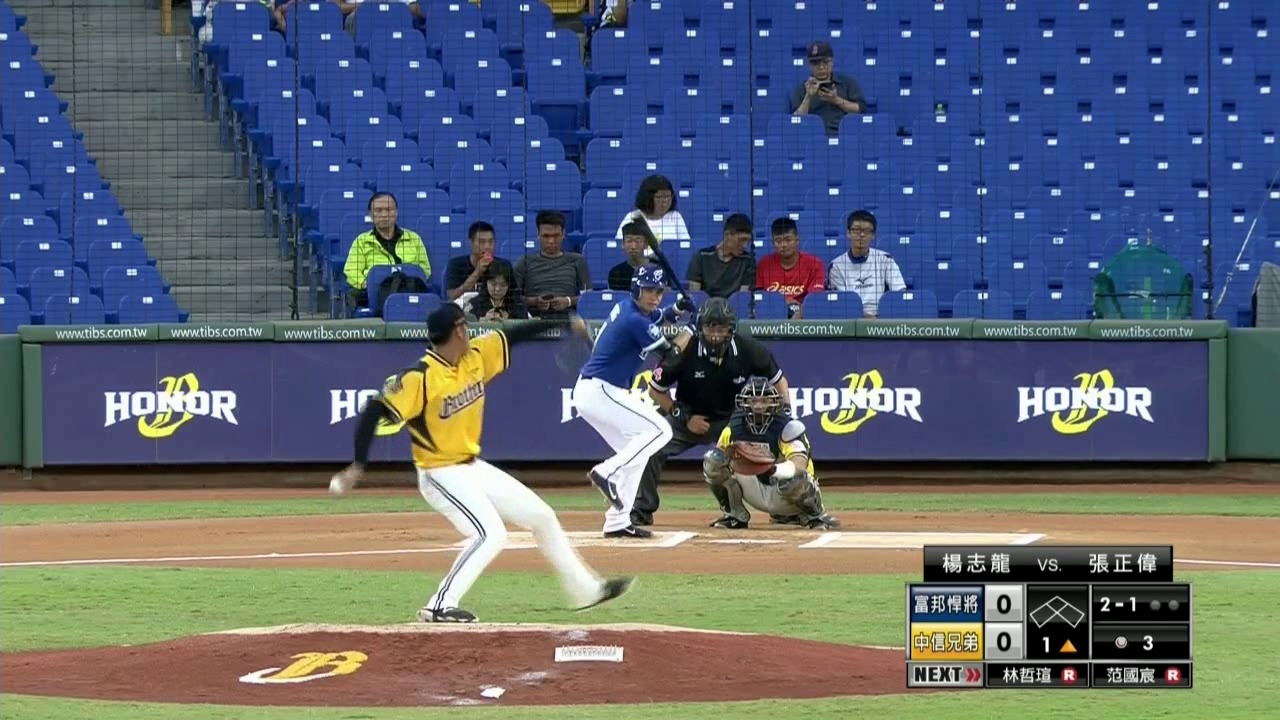ball: (324, 474, 349, 498)
base: (1029, 593, 1086, 630)
bat: (628, 208, 693, 300)
out: (1147, 596, 1181, 613)
score1: (985, 585, 1022, 620)
score2: (985, 623, 1022, 659)
session: (1037, 633, 1080, 654)
strikeball: (1097, 593, 1139, 613)
total: (1107, 631, 1165, 652)
